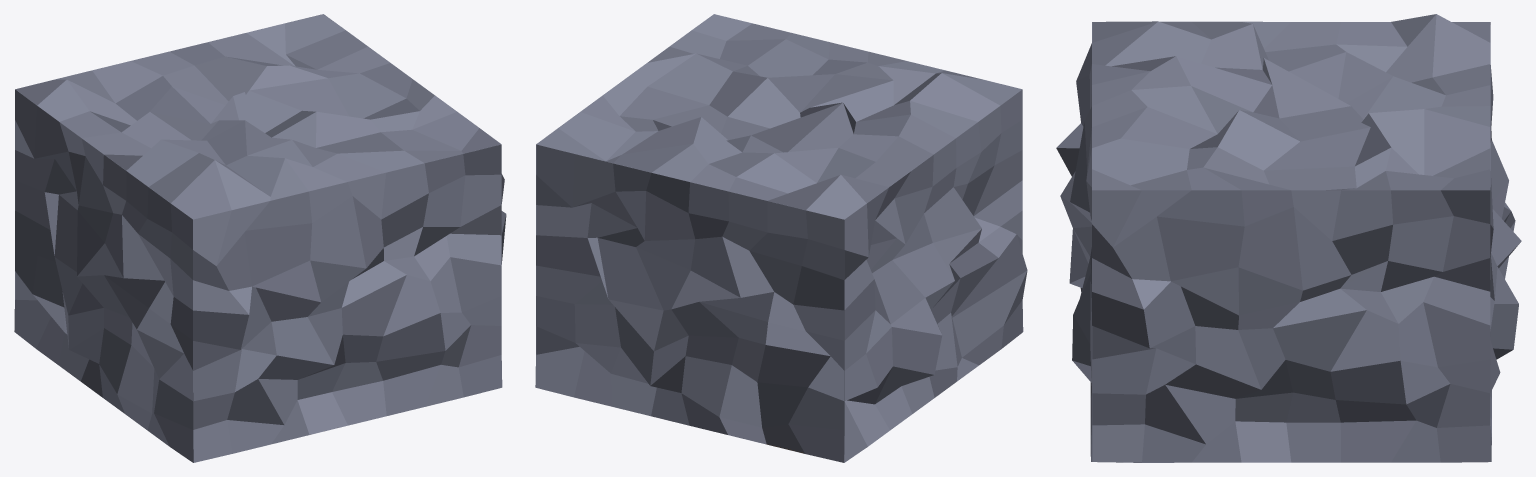
The model's file is Cave_Piece.fbx.
3 renders of one model, left to right at view 1: azimuth 30°, elevation 25°; view 2: azimuth 150°, elevation 25°; view 3: azimuth 270°, elevation 25°, orthographic. The views are drawn at different scales.
Visible parts, largest first — view 1: Plane.002, Plane, Plane.005; view 2: Plane.003, Plane, Plane.005; view 3: Plane.004, Plane, Plane.002, Plane.003.
Boxes of the visible parts, <box> form: Plane.002: <box>193,144,502,462</box>; Plane: <box>15,14,500,219</box>; Plane.005: <box>15,89,193,462</box>; Plane.003: <box>535,144,844,462</box>; Plane: <box>536,14,1021,219</box>; Plane.005: <box>844,89,1027,462</box>; Plane.004: <box>1092,190,1490,462</box>; Plane: <box>1092,14,1490,190</box>; Plane.002: <box>1056,22,1092,461</box>; Plane.003: <box>1490,25,1521,461</box>.
Size of the model in its own units: 1870 by 1333 by 1870.
